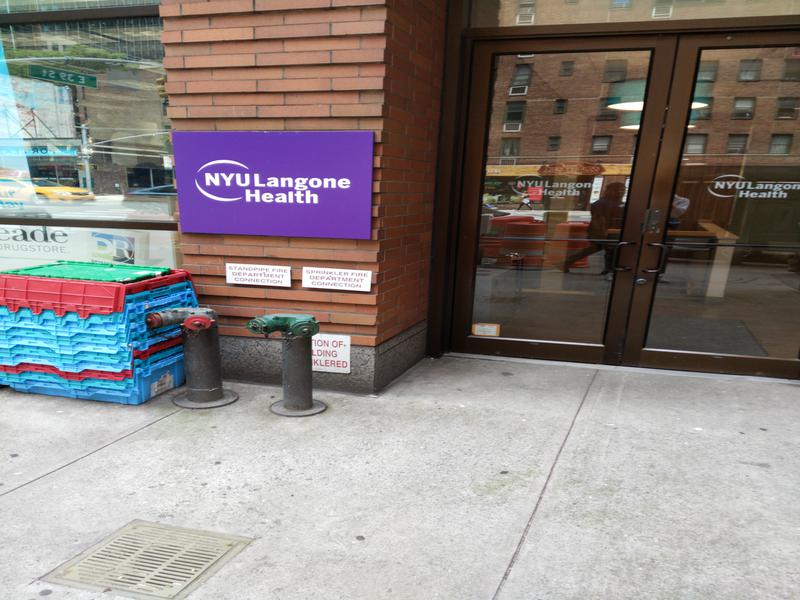double_door: (466, 26, 800, 387)
